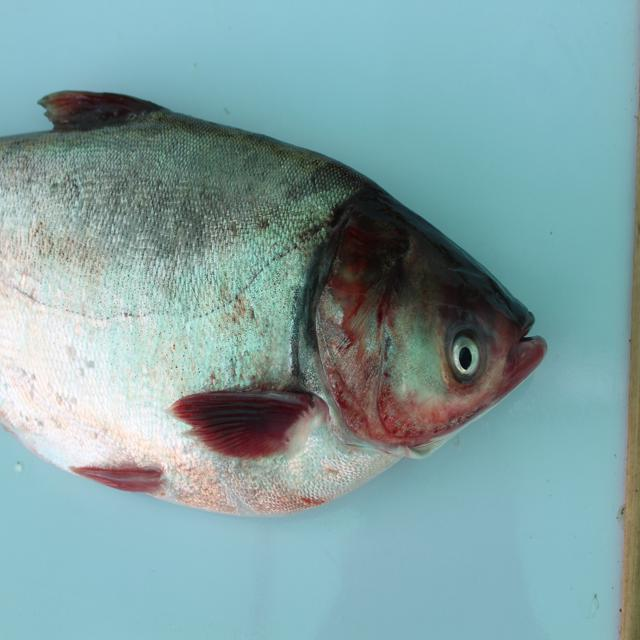SilverCarp: (1, 91, 503, 507)
